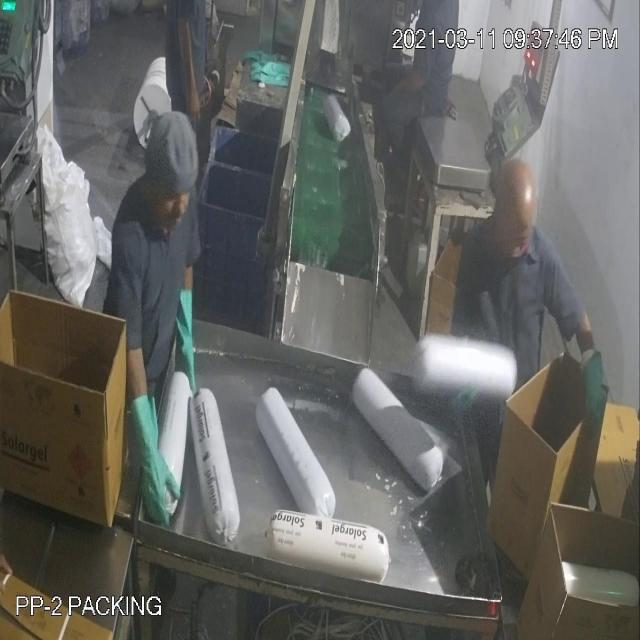No_Gloves: (36, 70, 594, 462)
